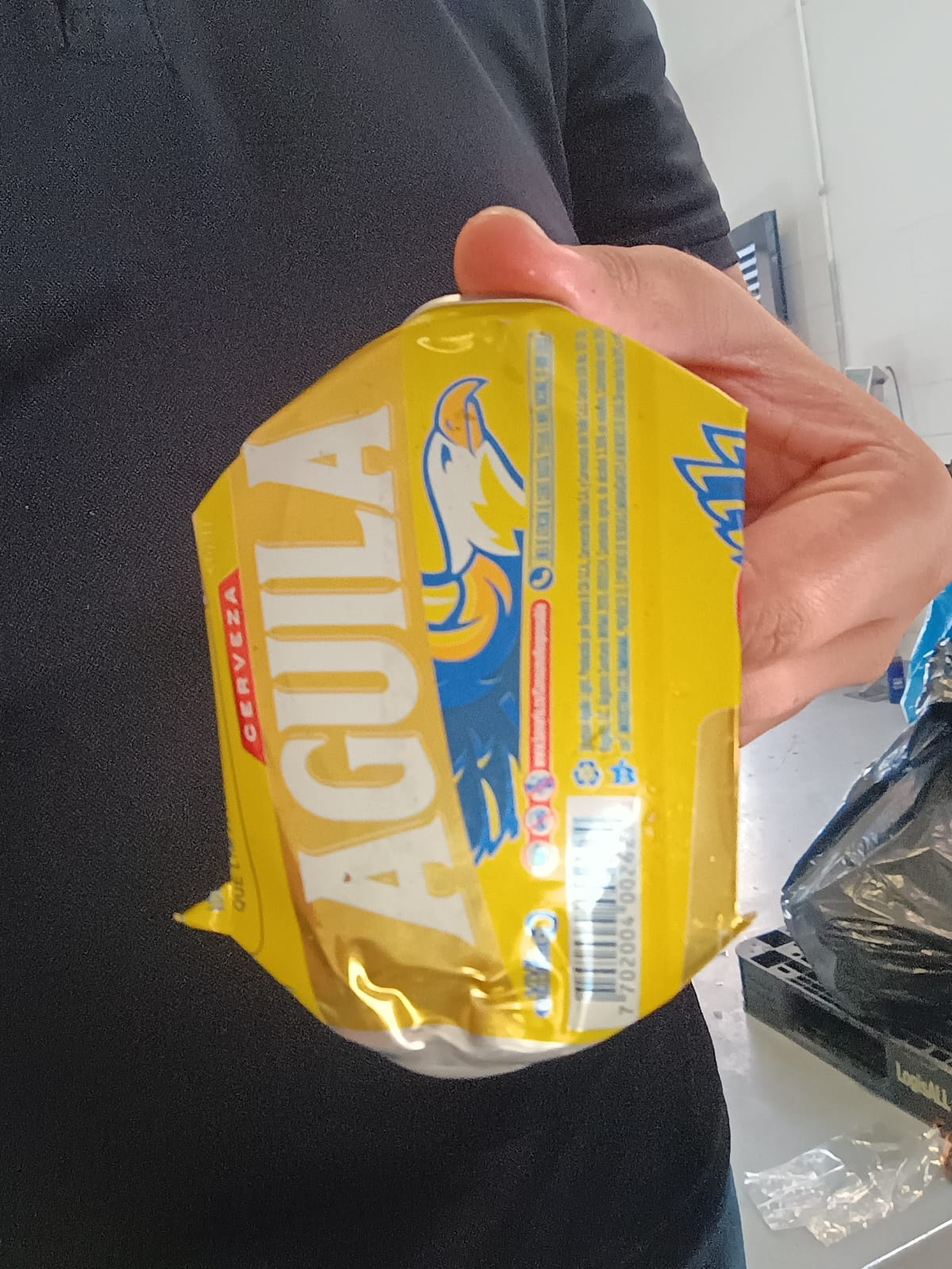Metal: (188, 296, 747, 1078)
